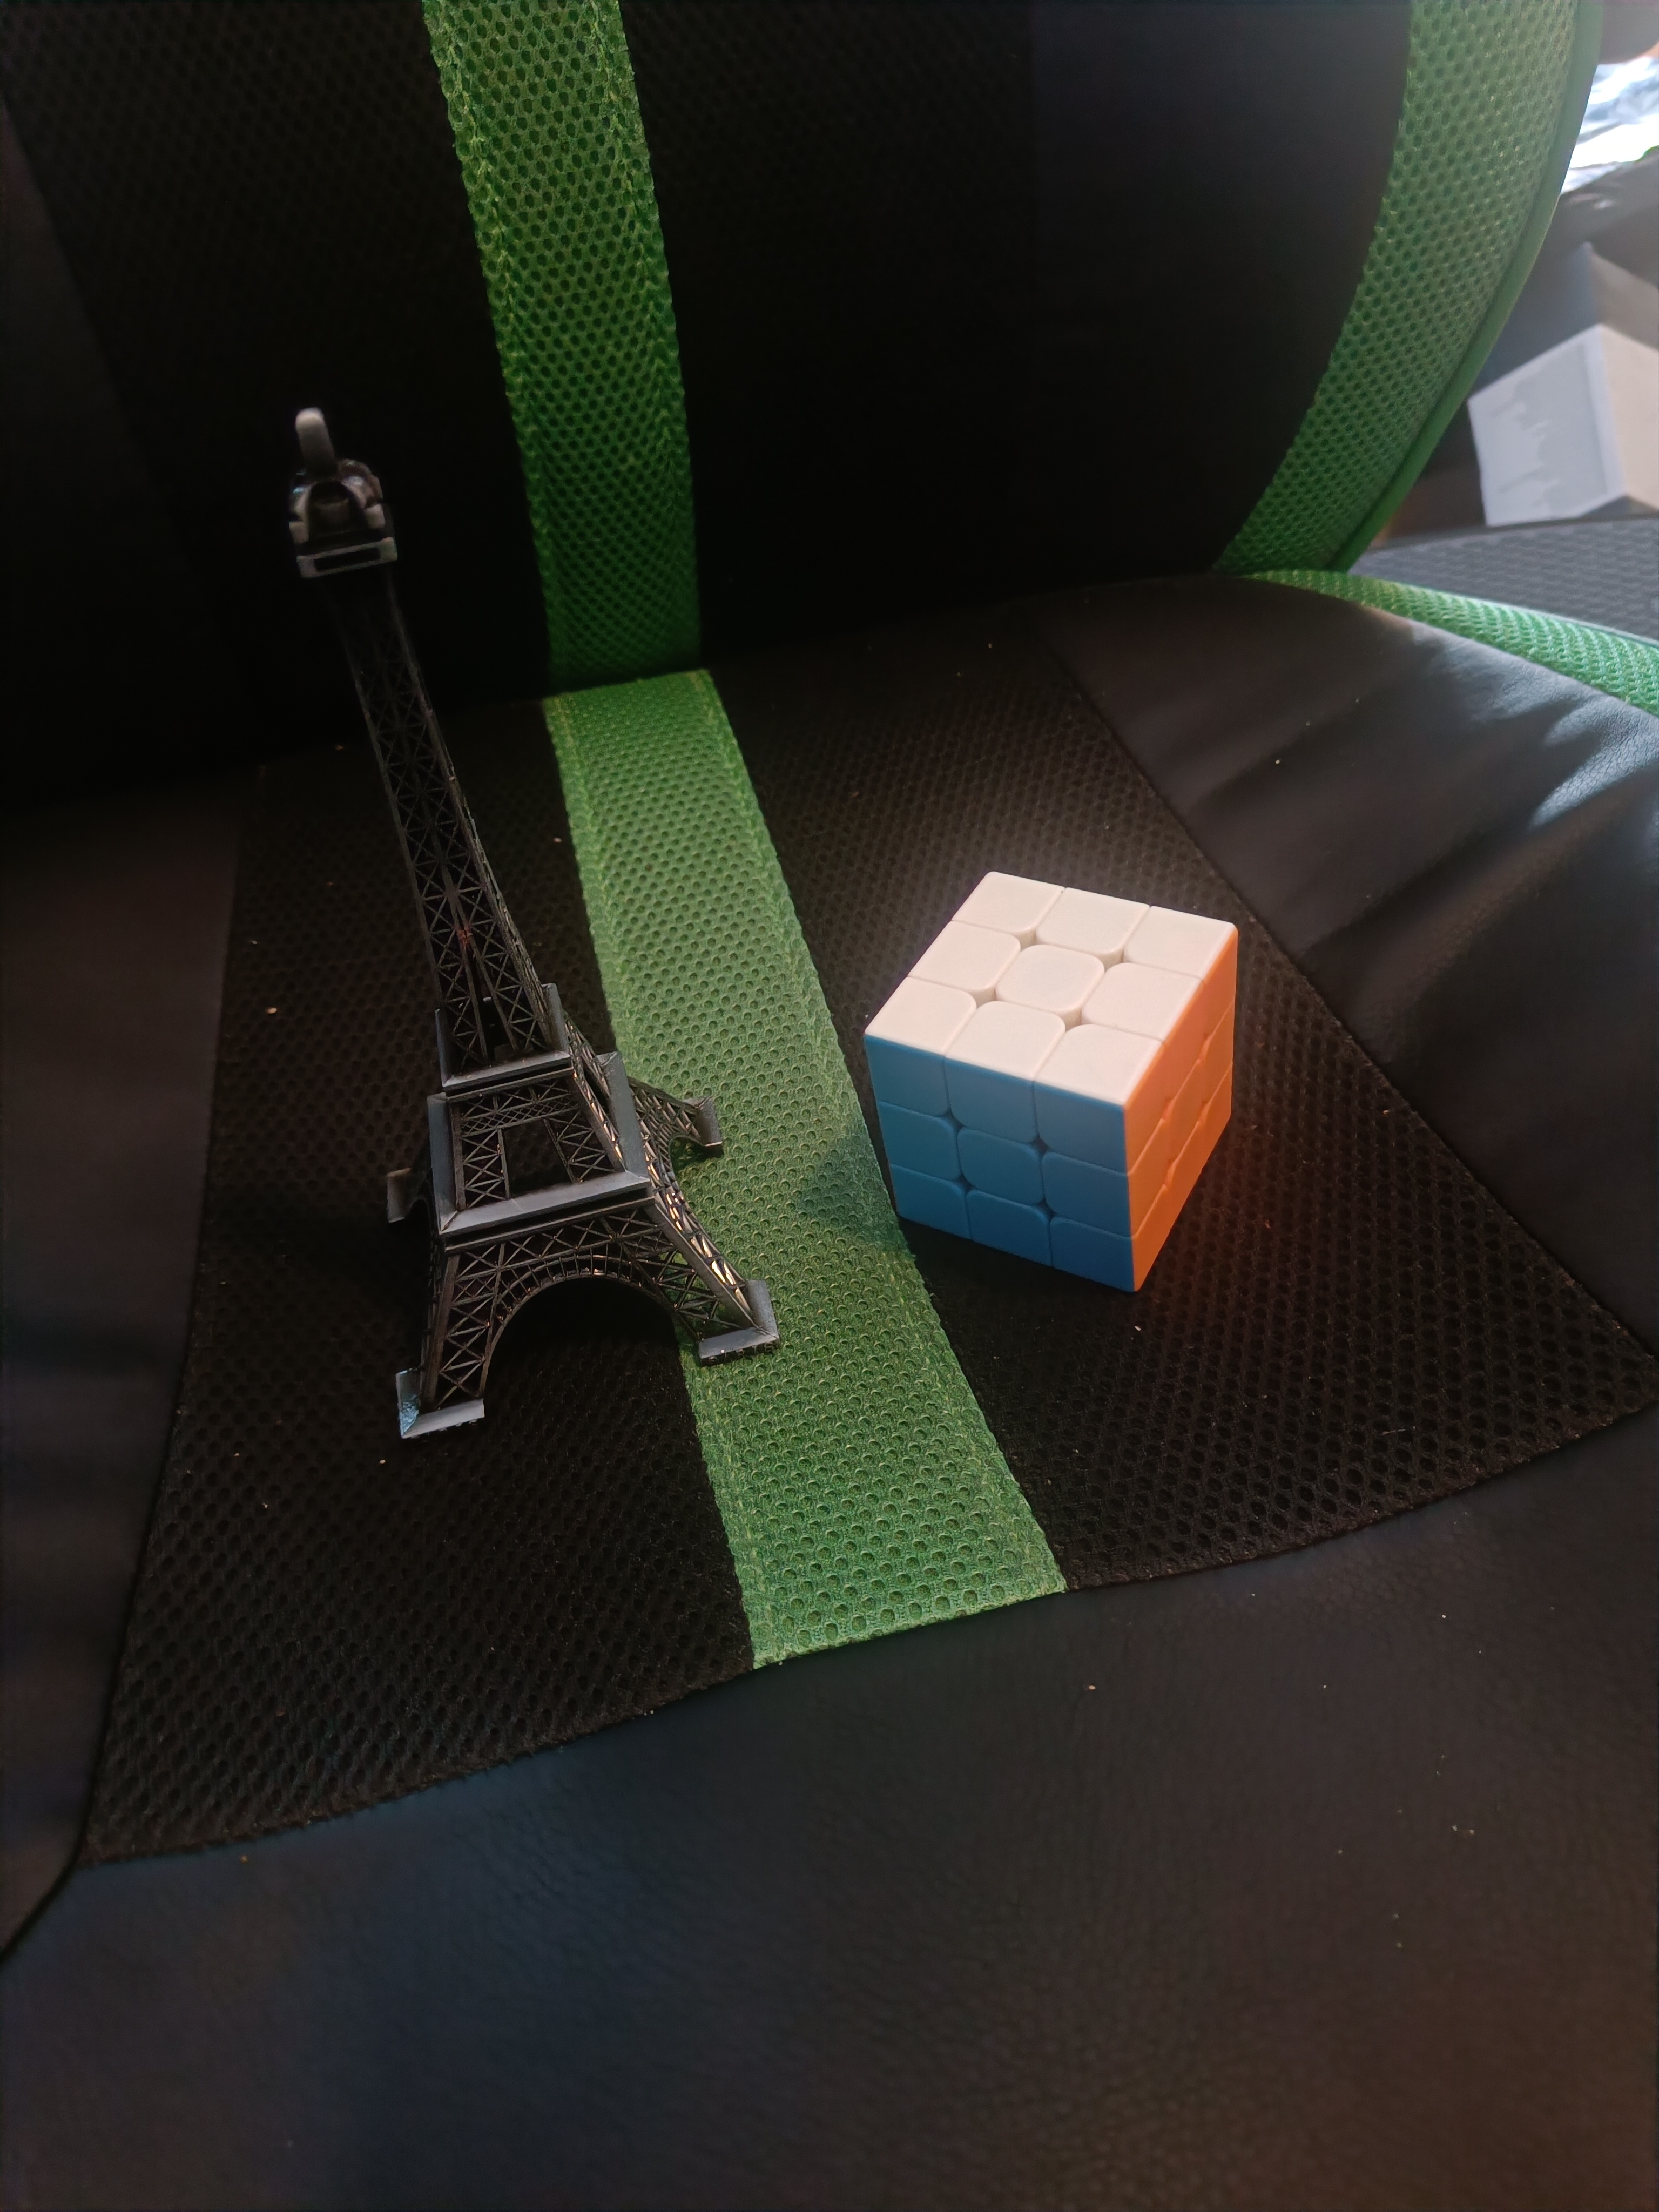Eiffel Tower: (265, 374, 796, 1458)
Rubiks Cube: (843, 833, 1260, 1301)
